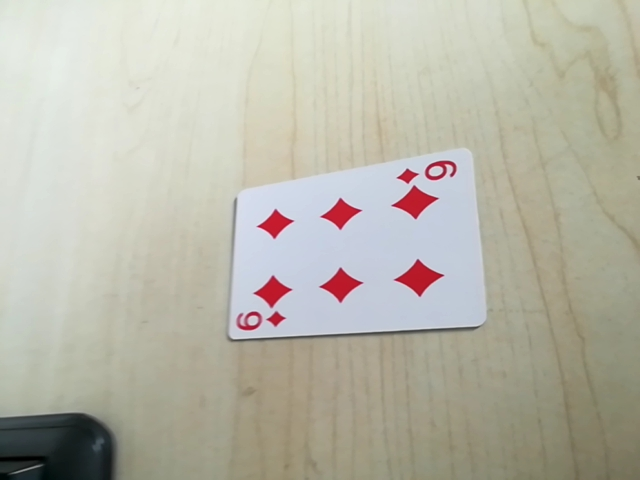fk 6: (394, 156, 464, 187), (234, 308, 289, 337)
